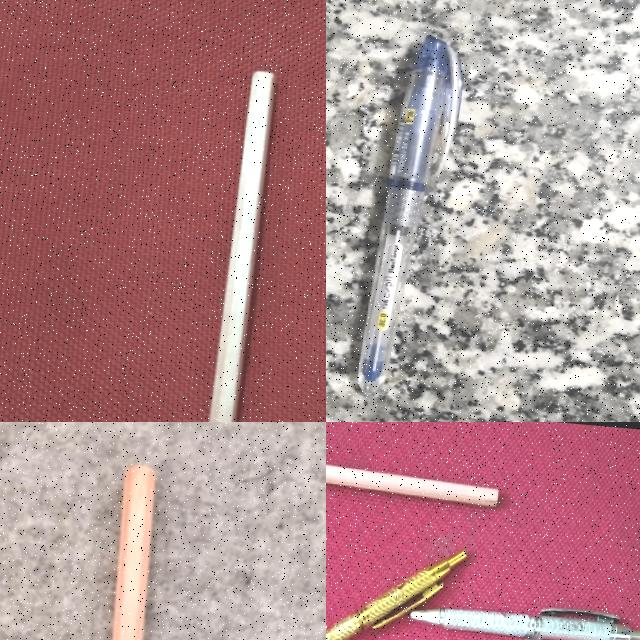pen: (357, 36, 460, 395)
pencil: (209, 72, 272, 421), (326, 442, 506, 507), (113, 466, 154, 639)
signature pen: (326, 552, 466, 640), (412, 595, 640, 640)
